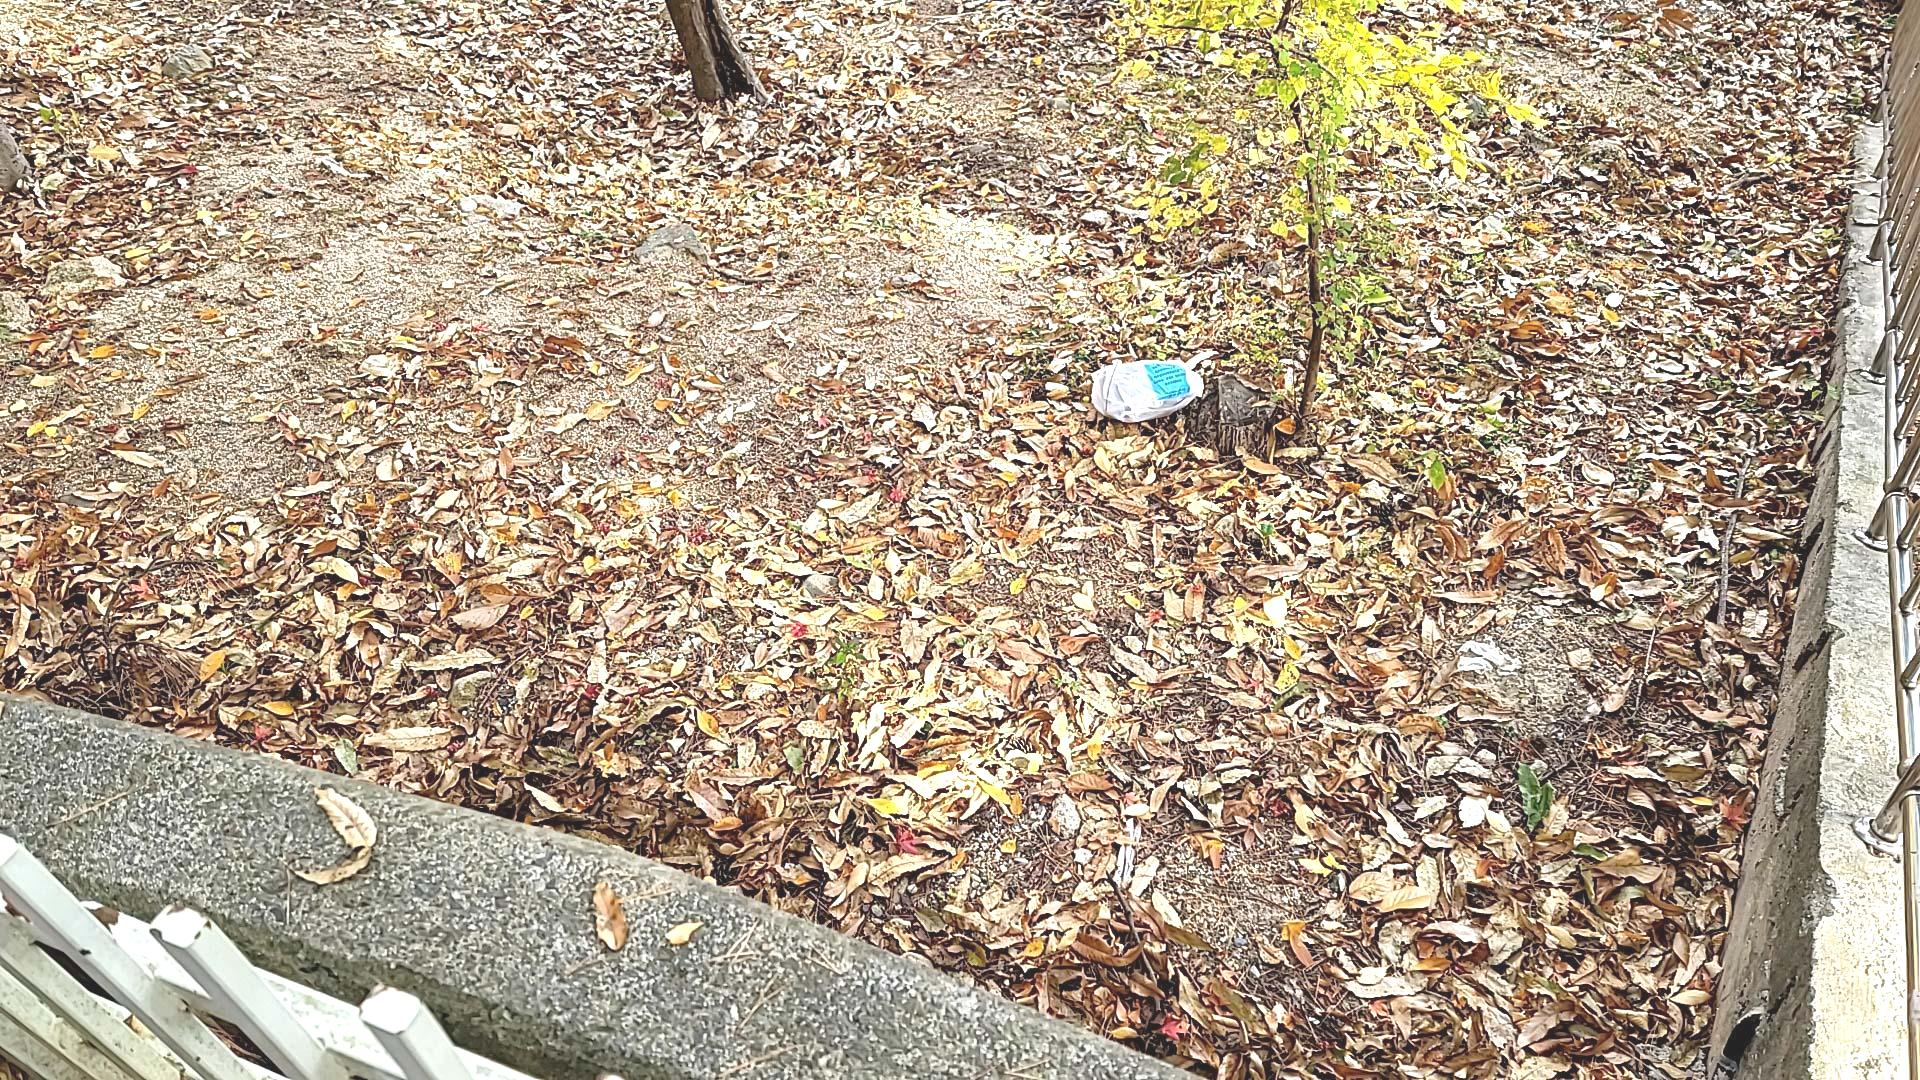white_bag: (1085, 356, 1207, 419)
